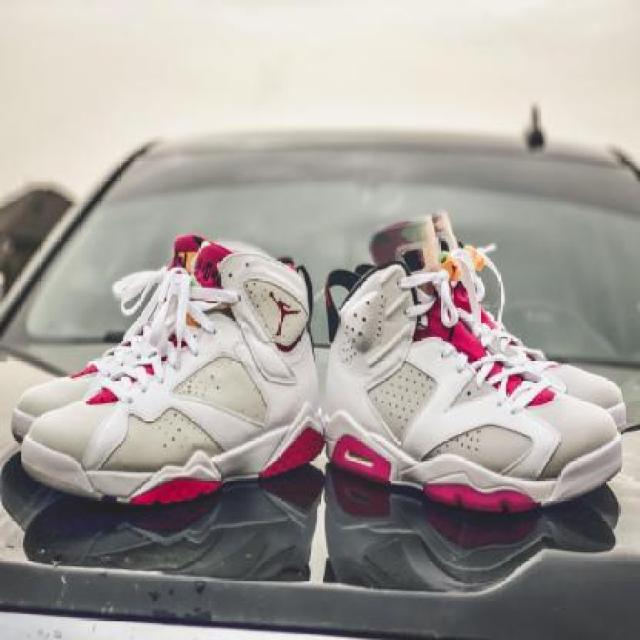shoes: (18, 260, 325, 506), (323, 274, 623, 508)
